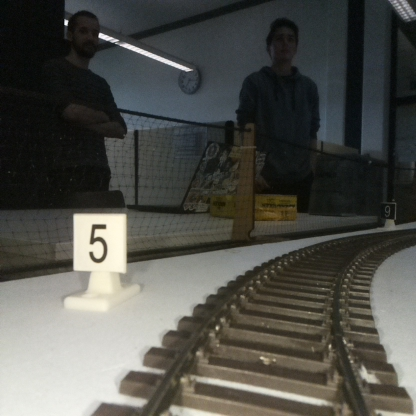black-stop-9: (381, 202, 395, 228)
white-stop-5: (73, 214, 125, 308)
